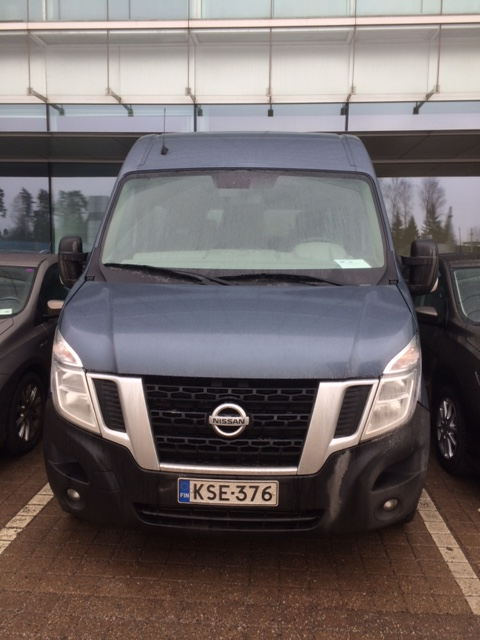license: (172, 471, 280, 514)
